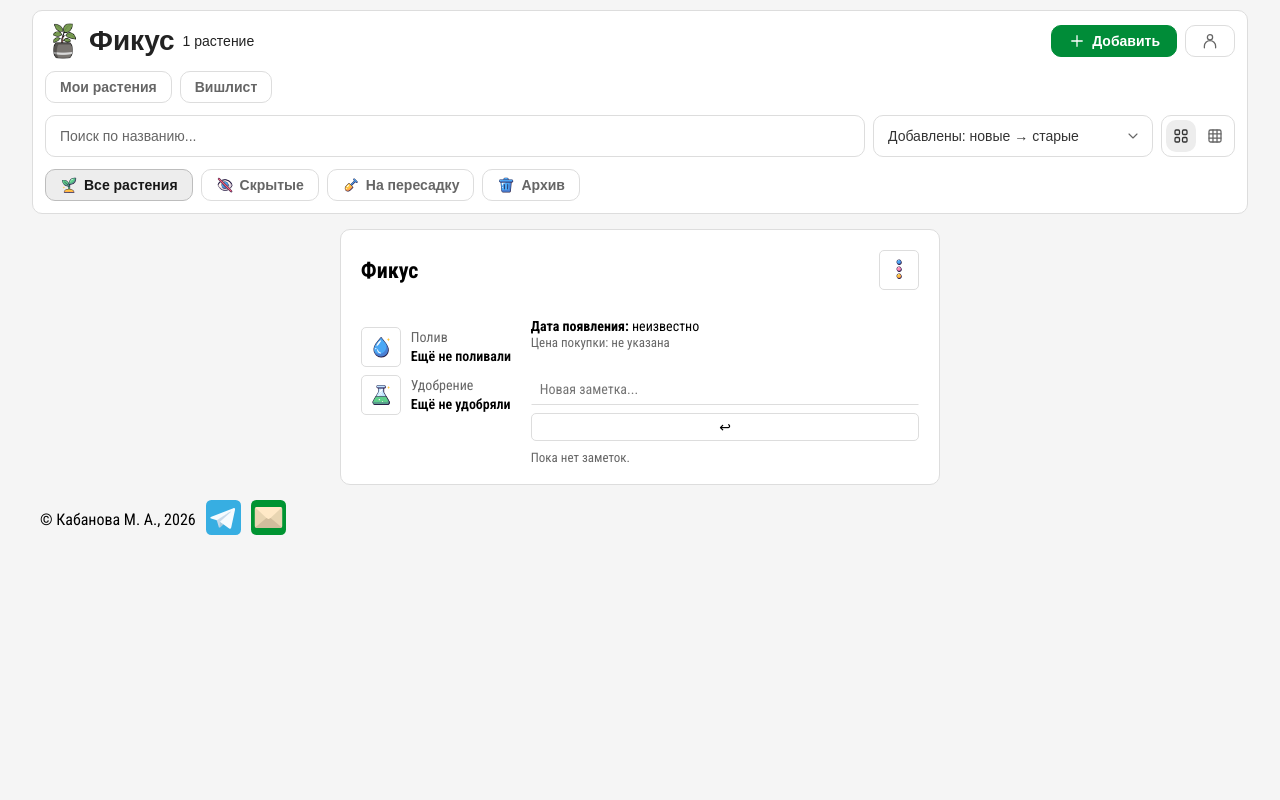
Test: preserves a note after a failed save and allows retrying
Type "Новый лист" into the text box labelled "Новая заметка" at (725, 388), box [531,372,919,404]
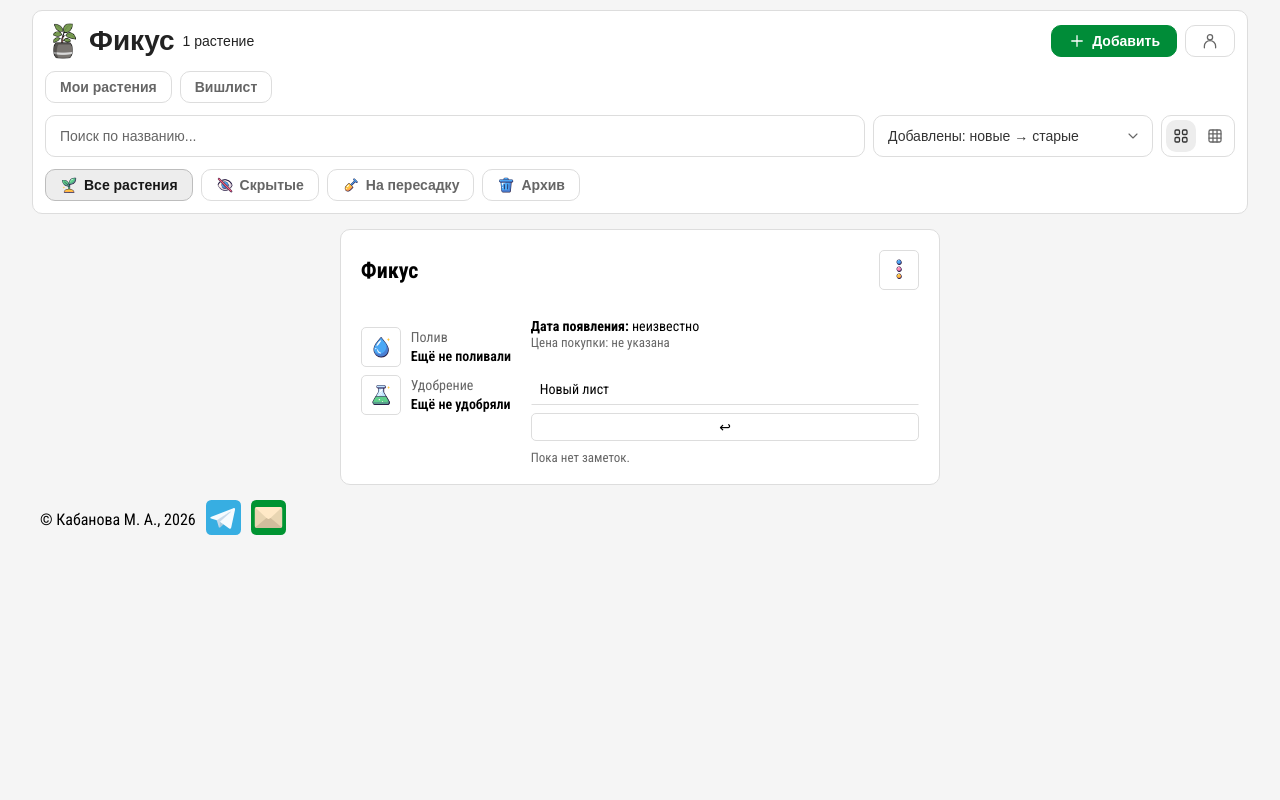
Click the button named "Сохранить заметку" at (725, 426), box [531,412,919,440]
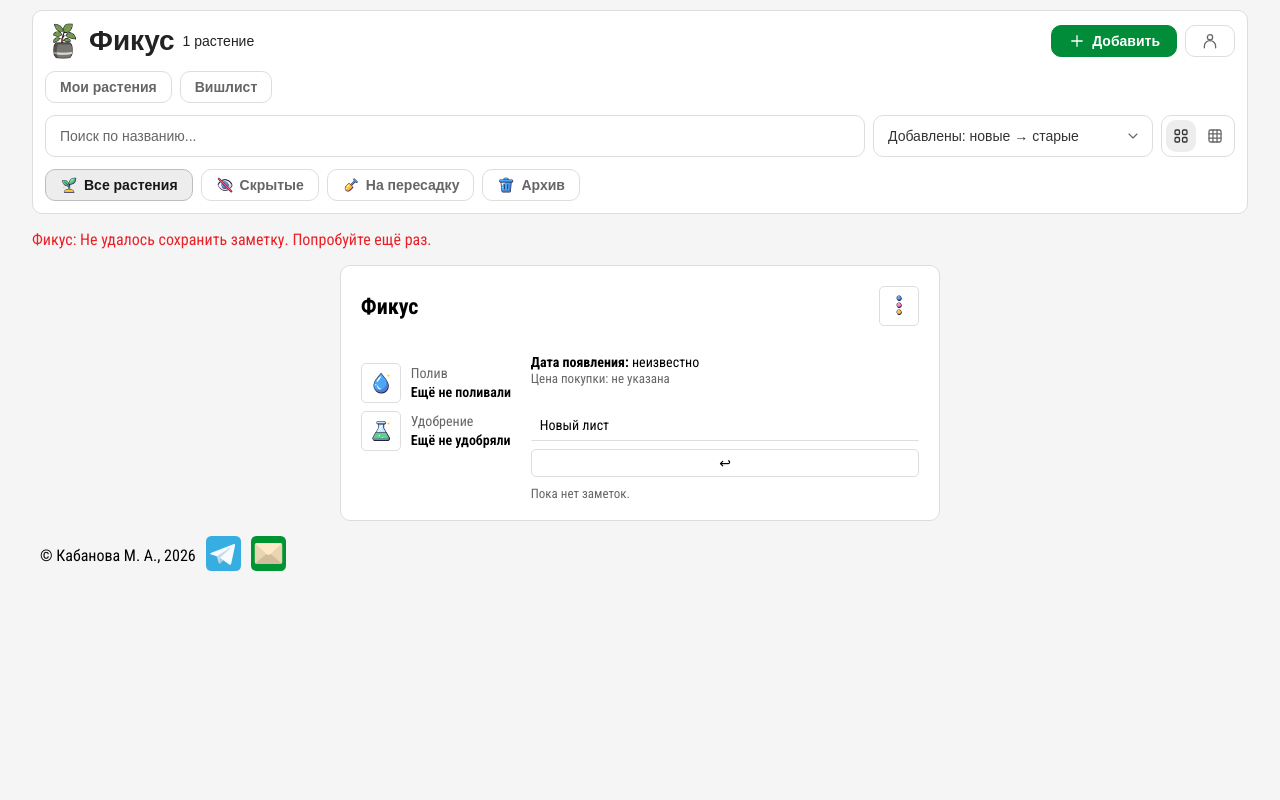
expect the message shows "Не удалось сохранить заметку": met, box [32,230,432,249]
Click the button named "Сохранить заметку" at (725, 462), box [531,448,919,476]
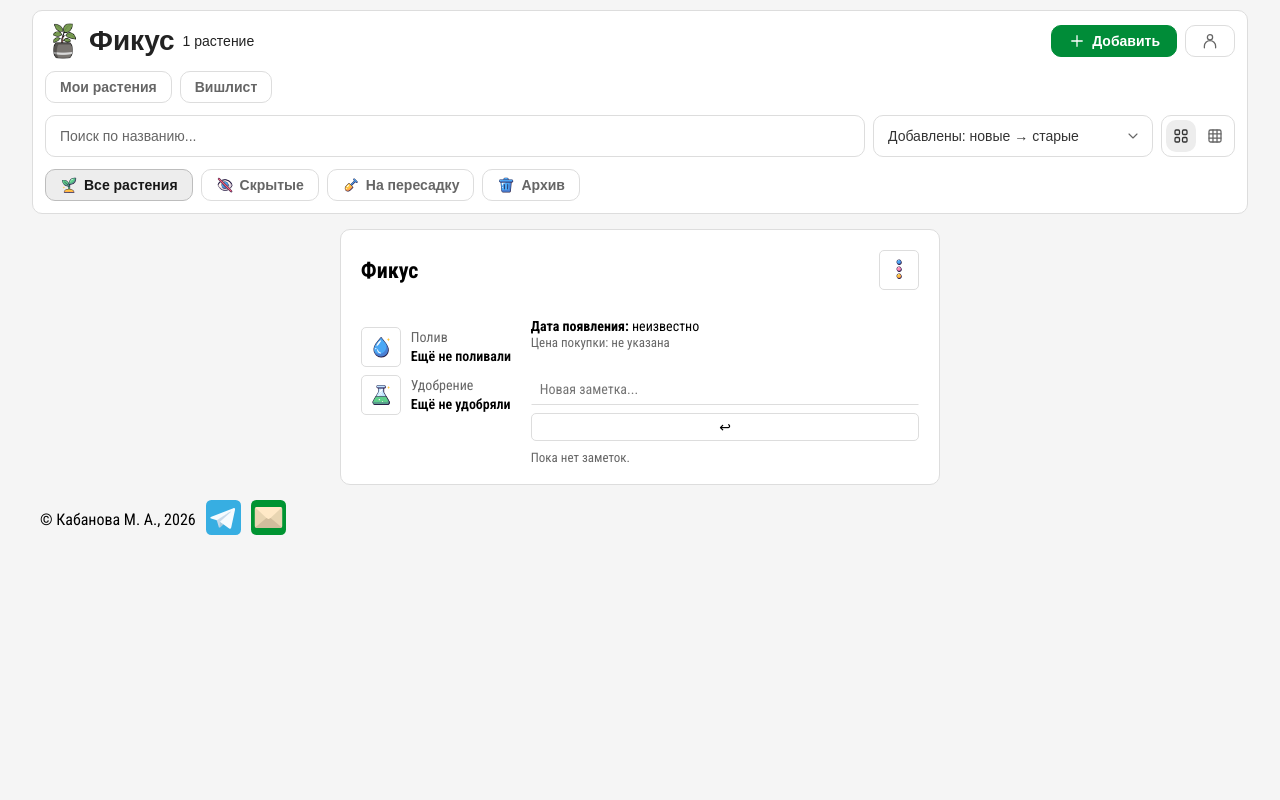
expect the text box labelled "Новая заметка" is empty: met, box [531,372,919,404]
expect the message "Фикус: Не удалось сохранить заметку. Попробуйте ещё раз." is gone: met
